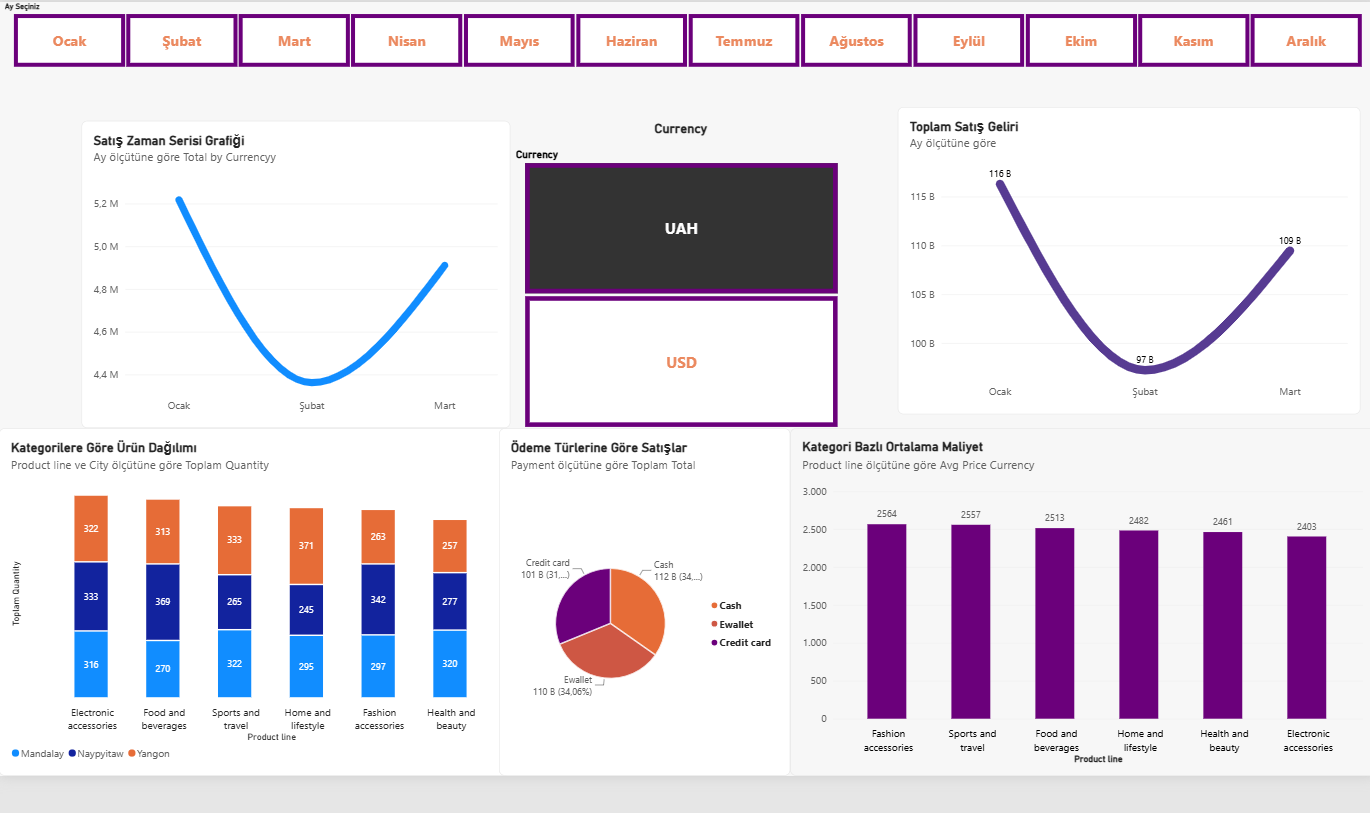

This screenshot's page, from the dashboard's own definition file:
{"tool":"powerbi","page":{"name":"Monthly Revenue","canvas":[1920,1080],"ordinal":0},"visuals":[{"type":"lineChart","fields":{"Category":["supermarket_sales - Sheet1.Date.Varyasyon.Tarih Hiyerarşisi.Yıl","supermarket_sales - Sheet1.Date.Varyasyon.Tarih Hiyerarşisi.Ay"],"Y":["supermarket_sales - Sheet1.Toplam Satış Geliri1"]},"box":[1189.5,165.7,645.4,429.1],"z":0},{"type":"clusteredColumnChart","title":"Kategori Bazlı Ortalama Maliyet","fields":{"Category":["supermarket_sales - Sheet1.Product line"],"Y":["Currency.Avg Price Currency"]},"box":[1104.1,594.8,816.3,484.9],"z":1},{"type":"lineChart","title":"Satış Zaman Serisi Grafiği","fields":{"Category":["supermarket_sales - Sheet1.Date.Varyasyon.Tarih Hiyerarşisi.Ay"],"Y":["supermarket_sales - Sheet1.Total by Currencyy"]},"box":[115.1,165.7,598.3,429.1],"z":2},{"type":"slicer","fields":{"Values":["supermarket_sales - Sheet1.Date.Varyasyon.Tarih Hiyerarşisi.Ay"]},"box":[0,0,1920.4,92.4],"z":3},{"type":"columnChart","title":"Kategorilere Göre Ürün Dağılımı","fields":{"Category":["supermarket_sales - Sheet1.Product line"],"Series":["supermarket_sales - Sheet1.City"],"Y":["Sum(supermarket_sales - Sheet1.Quantity)"]},"box":[0,594.8,713.4,484.9],"z":4},{"type":"pieChart","title":"Ödeme Türlerine Göre Satışlar","fields":{"Category":["supermarket_sales - Sheet1.Payment"],"Y":["Sum(supermarket_sales - Sheet1.Total)"]},"box":[697.7,594.8,406.4,484.9],"z":5},{"type":"slicer","title":"Currency","fields":{"Values":["Currency.Currency"]},"box":[713.4,165.7,476.2,429.1],"z":6}]}

Visuals, with their boxes on the page's 1920x1080 design canvas (x1, y1, x2, y2). These are canvas units, not pixel positions in the 1370x813 screenshot, which may show the page scaled, cropped or inside an application window:
lineChart - supermarket_sales - Sheet1.Date.Varyasyon.Tarih Hiyerarşisi.Yıl x supermarket_sales - Sheet1.Date.Varyasyon.Tarih Hiyerarşisi.Ay: left=1190, top=166, right=1835, bottom=595
"Kategori Bazlı Ortalama Maliyet" clusteredColumnChart: left=1104, top=595, right=1920, bottom=1080
"Satış Zaman Serisi Grafiği" lineChart: left=115, top=166, right=713, bottom=595
slicer - supermarket_sales - Sheet1.Date.Varyasyon.Tarih Hiyerarşisi.Ay: left=0, top=0, right=1920, bottom=92
"Kategorilere Göre Ürün Dağılımı" columnChart: left=0, top=595, right=713, bottom=1080
"Ödeme Türlerine Göre Satışlar" pieChart: left=698, top=595, right=1104, bottom=1080
"Currency" slicer: left=713, top=166, right=1190, bottom=595
